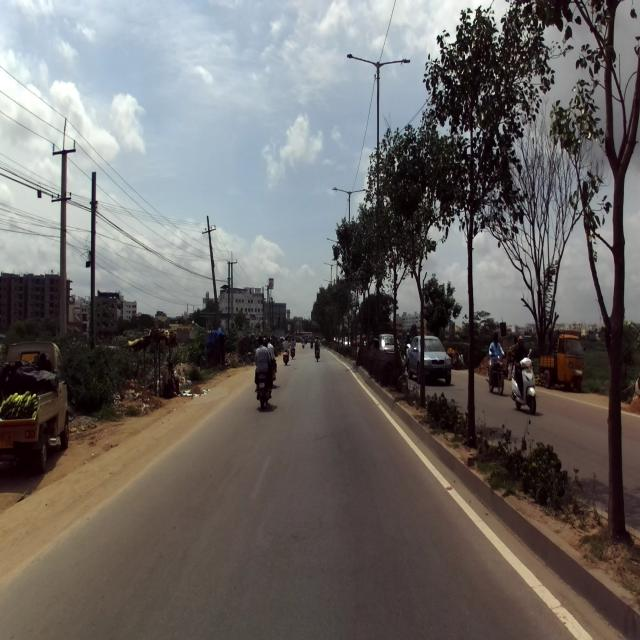autorickshaw: (538, 326, 587, 394)
scooter: (509, 346, 538, 416)
